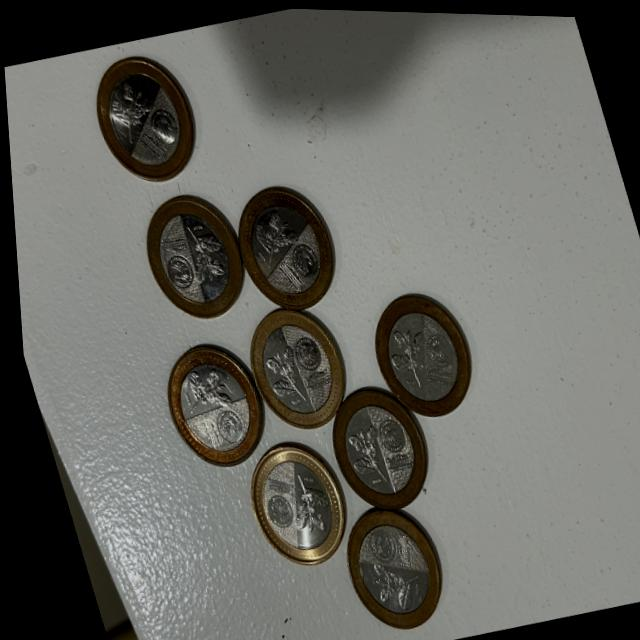20_New_Back: (102, 74, 161, 143), (378, 317, 431, 391), (276, 469, 329, 535), (357, 556, 418, 609), (179, 222, 229, 286), (171, 361, 228, 415), (248, 208, 299, 266), (340, 420, 386, 483), (259, 342, 303, 406)
